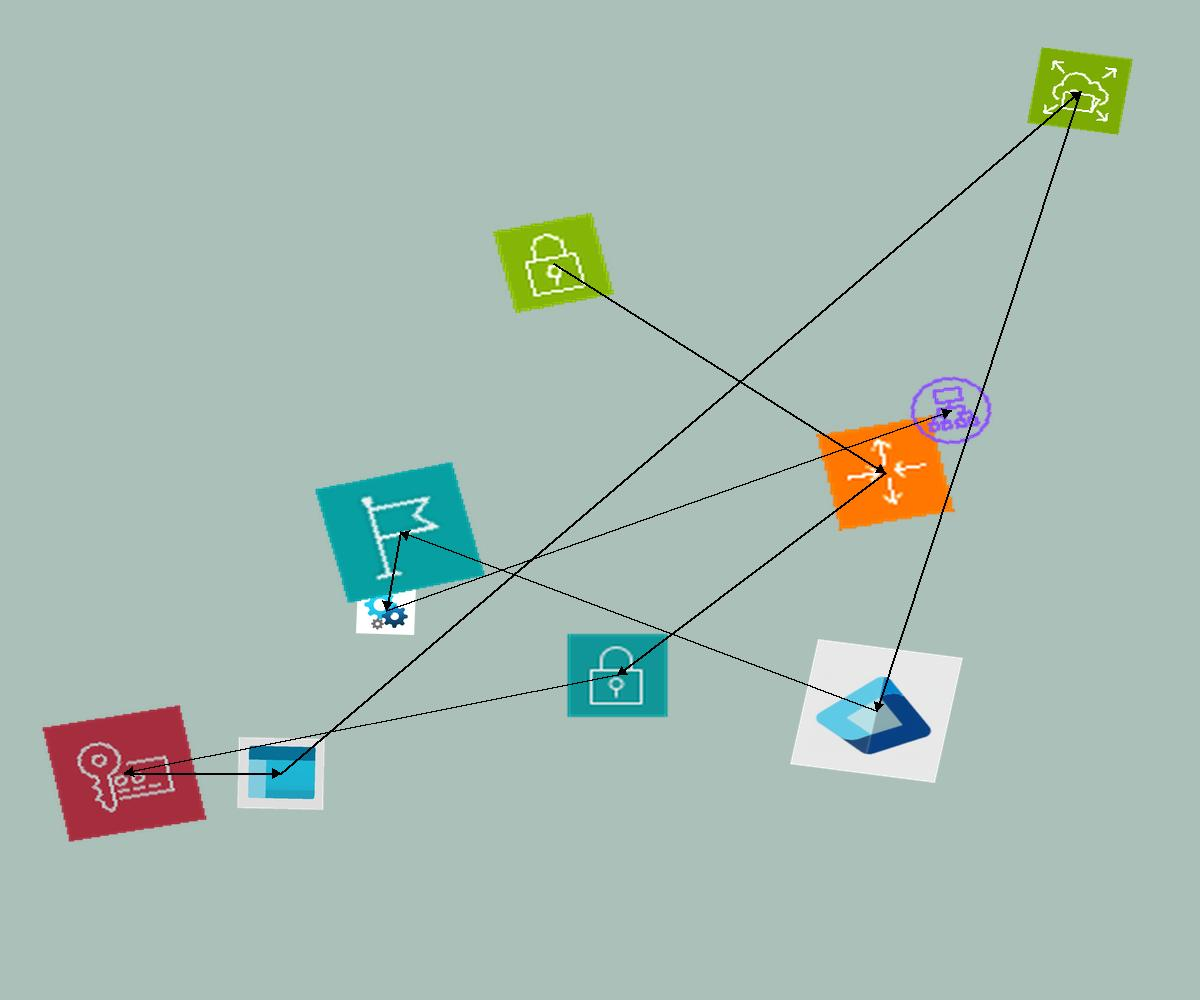AWS-EFS: (1027, 47, 1133, 135)
AWS-Key-Management-Service: (41, 704, 208, 843)
AWS-Private-subnet: (565, 632, 670, 719)
AWS-Public-subnet: (493, 213, 614, 313)
AWS-Region: (314, 461, 486, 604)
AWS-Res_Elastic-Load-Balancing_Application-Load-Balancer: (900, 368, 1002, 453)
AWS-Scaling-group: (816, 415, 955, 531)
Azure_api: (356, 585, 416, 635)
Azure_management-portal: (237, 737, 325, 810)
Azure_microsoft_entra: (790, 639, 963, 783)
